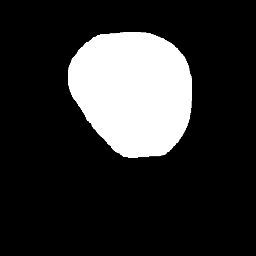mass: (70, 32, 193, 161)
